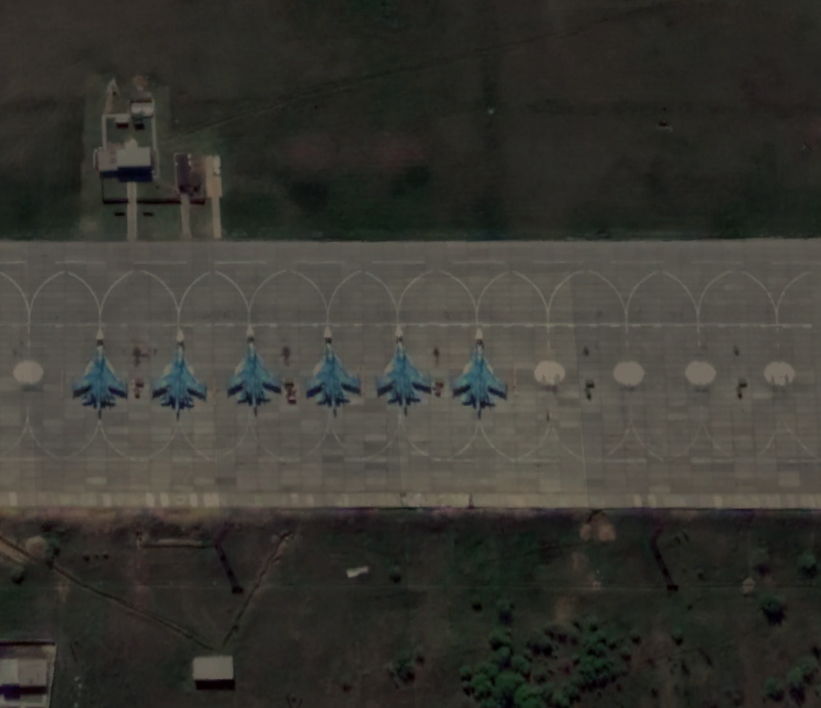A19: (58, 324, 128, 423), (143, 324, 213, 423), (215, 320, 285, 419), (297, 323, 367, 422), (368, 319, 438, 418), (445, 321, 515, 420)
